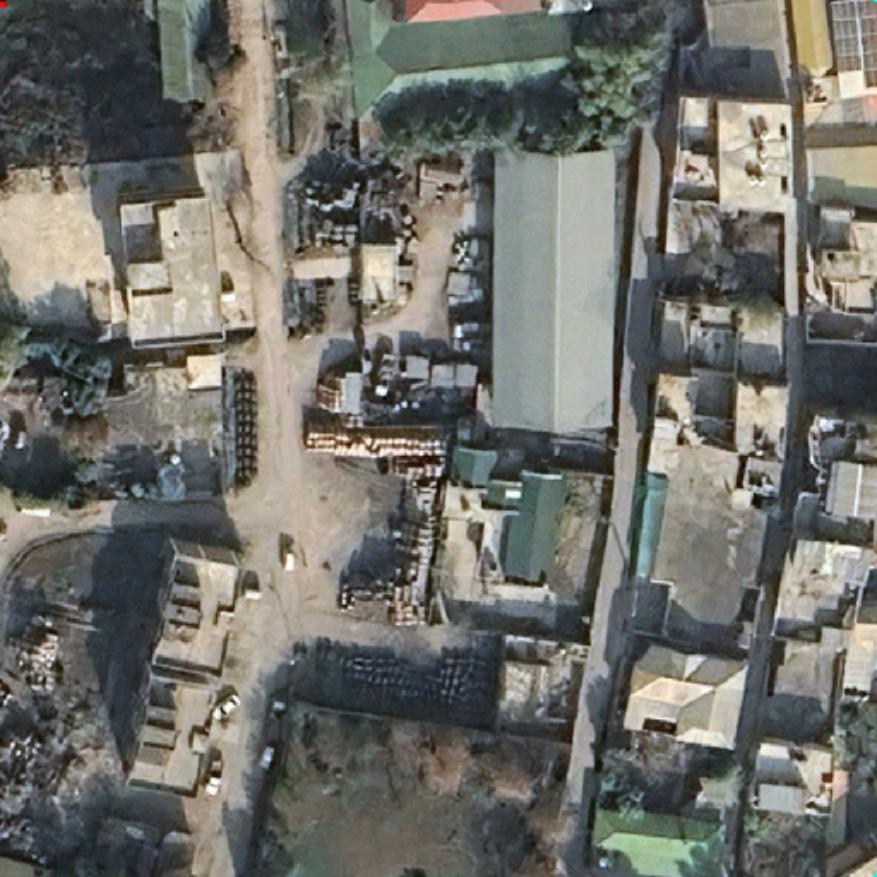Solarpanel: (830, 0, 861, 70), (860, 13, 877, 85)
